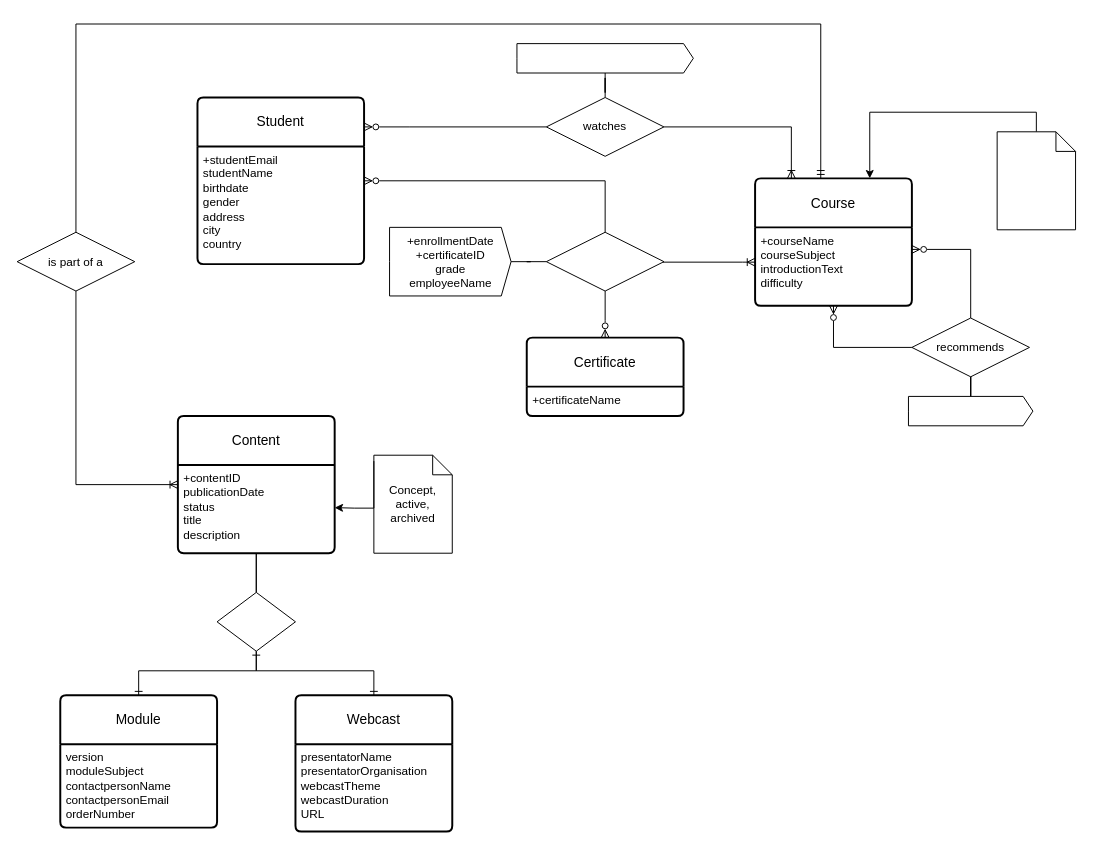
This 1093x850 diagram has some shape labels left out. The centre of each missing label's shape, as x and y in pixels:
Beginner, Intermediate, expert: (x=1036, y=180)
follows a: (x=604, y=261)
is a: (x=255, y=621)
percentageOfViewedContent: (x=604, y=58)
recommendedCourses: (x=970, y=410)
